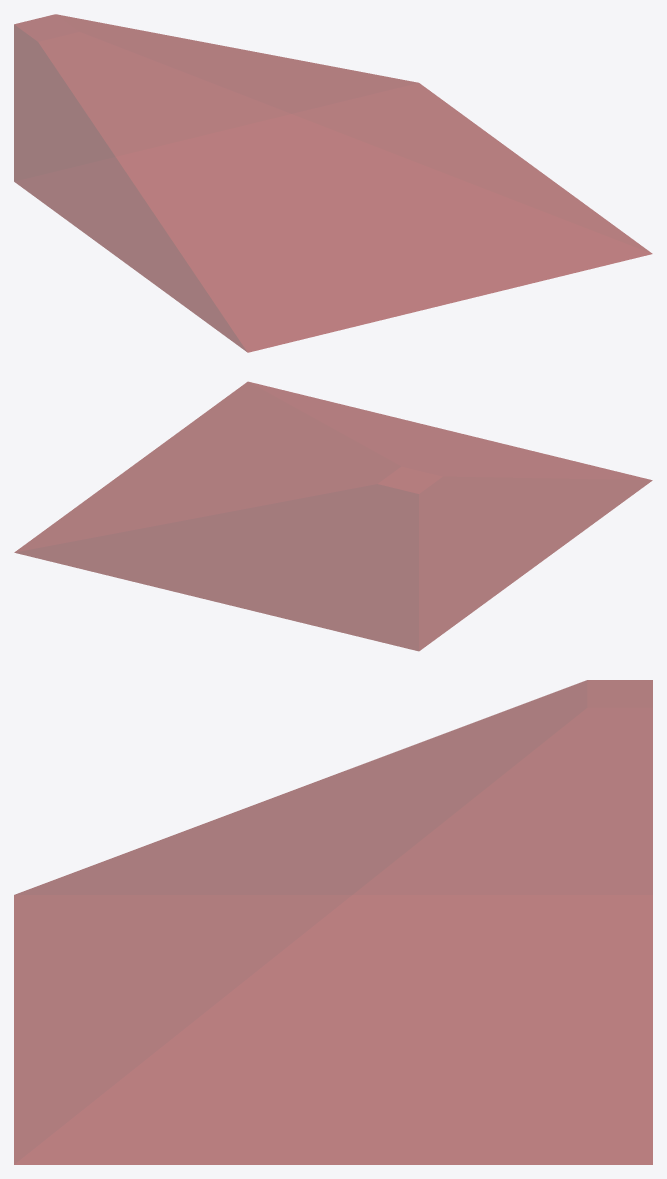
File: SM_Bld_Steps_01_Corner_Outer_01_Collision.fbx
3 renders of one model, top to bottom at view 1: azimuth 30°, elevation 25°; view 2: azimuth 150°, elevation 25°; view 3: azimuth 270°, elevation 25°, orthographic. The views are drawn at different scales.
Parts seen in each view (by area): view 1: SM_Bld_Steps_01_Corner_Outer_01_Collision; view 2: SM_Bld_Steps_01_Corner_Outer_01_Collision; view 3: SM_Bld_Steps_01_Corner_Outer_01_Collision.
Part boxes in pixels (x1,y1,x2,y2): SM_Bld_Steps_01_Corner_Outer_01_Collision: (14,14,652,352); SM_Bld_Steps_01_Corner_Outer_01_Collision: (14,381,652,651); SM_Bld_Steps_01_Corner_Outer_01_Collision: (14,680,652,1164).
Bounding box in the file's own units: 269 × 100 × 269.
